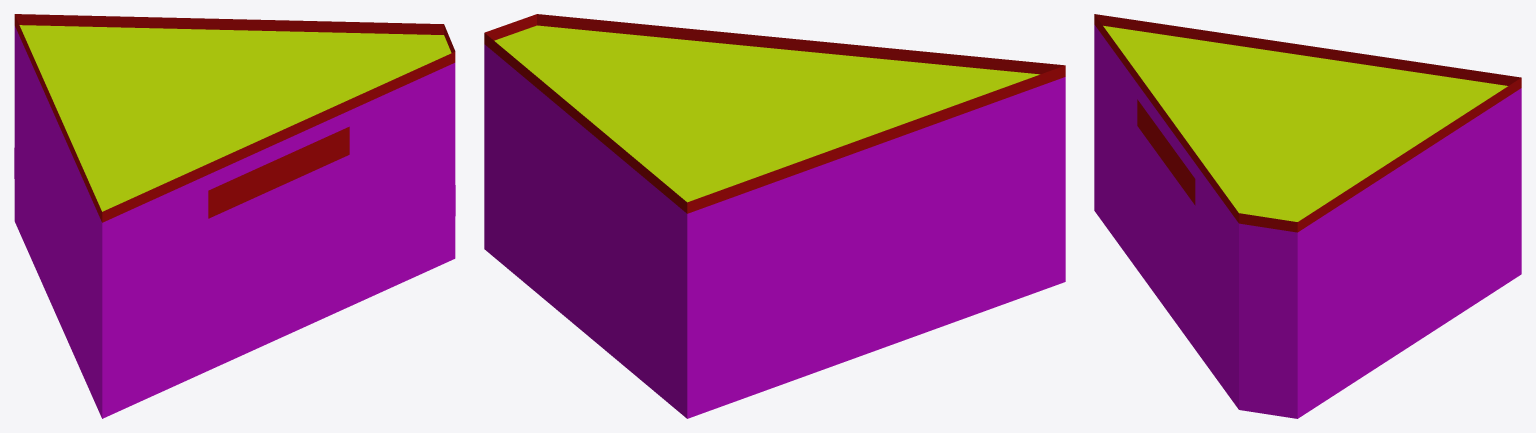
The model's file is bgj_165.glb.
3 views of the same model, side by side, from view 1: azimuth 30°, elevation 25°; view 2: azimuth 150°, elevation 25°; view 3: azimuth 270°, elevation 25° (orthographic). The views are drawn at different scales.
Visible parts, largest first — view 1: bgj_165; view 2: bgj_165; view 3: bgj_165.
Boxes of the visible parts, left/top/right/bottom form: bgj_165: left=14, top=14, right=455, bottom=418; bgj_165: left=484, top=14, right=1065, bottom=418; bgj_165: left=1094, top=14, right=1521, bottom=418.
Bounding box in the file's own units: 14.98 × 6.6 × 12.99.
